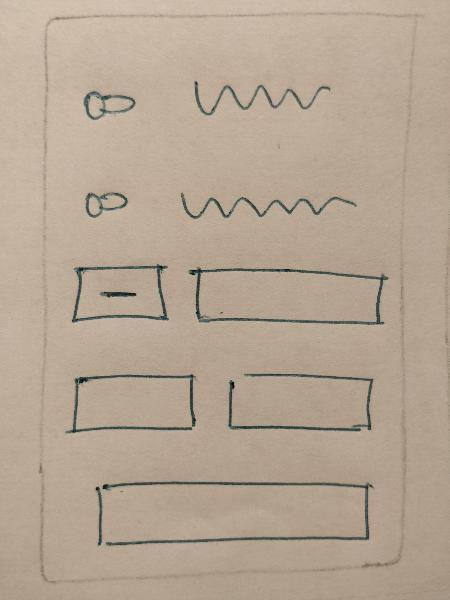button: (63, 255, 174, 334)
switch: (79, 79, 147, 125), (74, 183, 137, 225)
text: (180, 70, 337, 129), (172, 182, 367, 221)
text_input: (87, 475, 381, 552), (185, 259, 390, 335), (217, 366, 385, 444), (61, 368, 203, 442)
